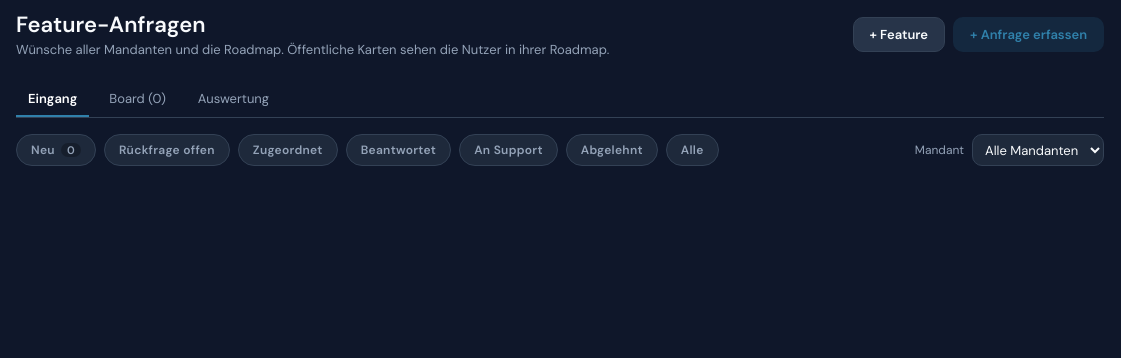
FeatureRequestsScreen — Board › internes Feature: kein Häkchen
Click the tab "Board (0)" at (138, 100), box x1=97 y1=82 x2=178 y2=117
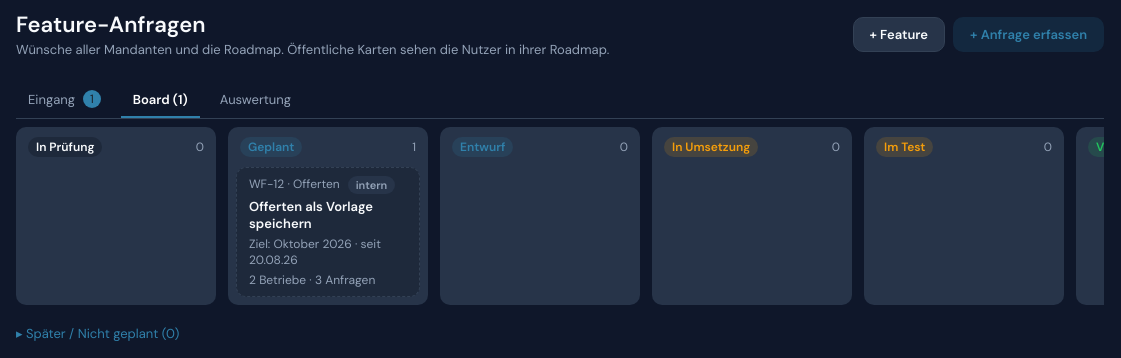
Check: the text "Offerten als Vorlage speichern" is shown, box x1=249 y1=198 x2=373 y2=232
